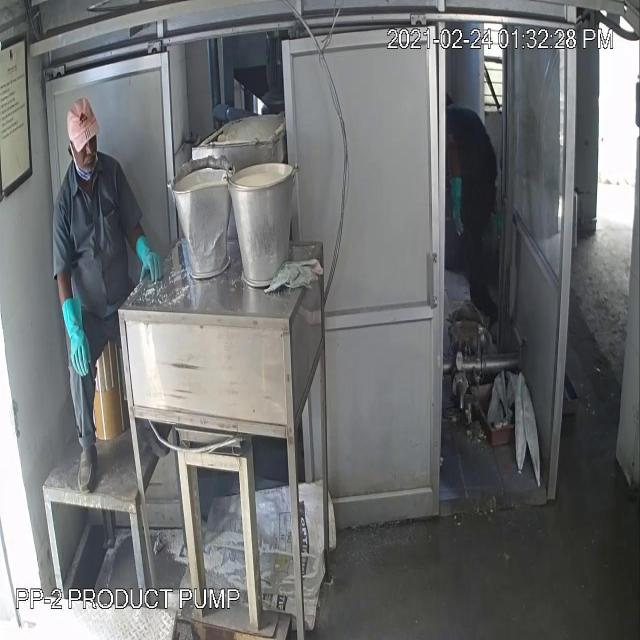no-helmet: (59, 90, 105, 154)
